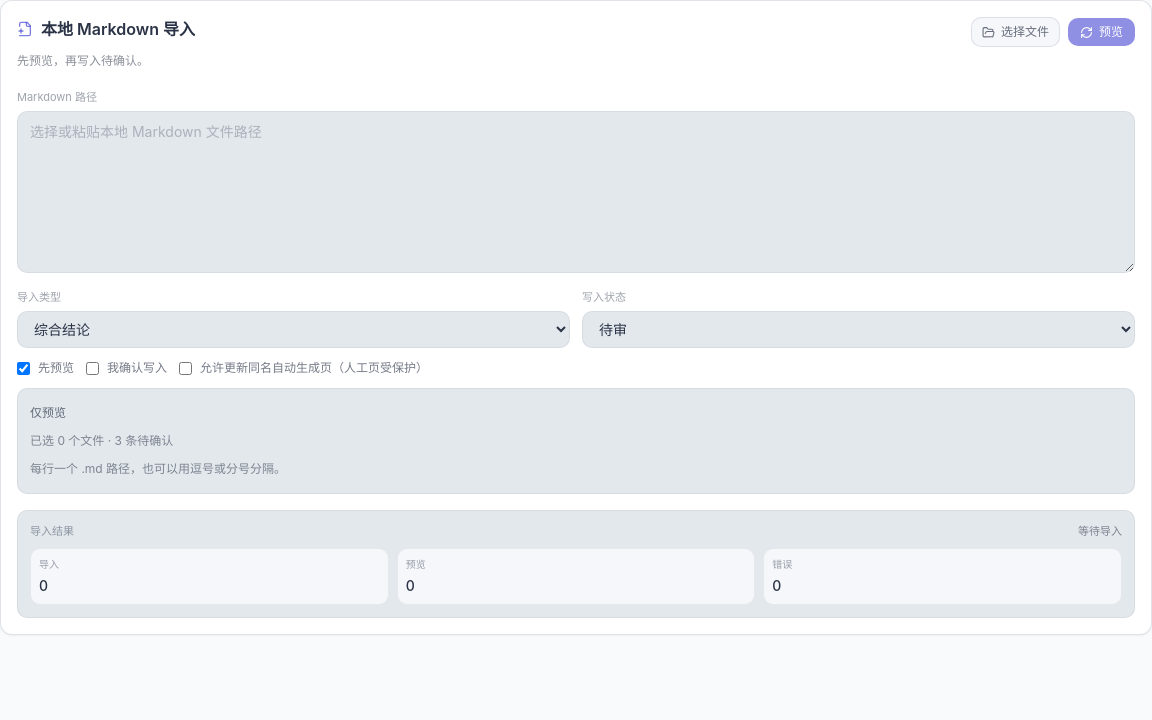
Test: WikiImportMarkdownPanel › keeps write mode blocked until the user confirms writing
Expected: the heading "本地 Markdown 导入" is shown, [41,17,195,41]
Type "C:\\temp\\draft.md" into the text box labelled "Markdown 路径".
click(576, 192); type("C:\\temp\\draft.md")  # box [17,111,1135,273]
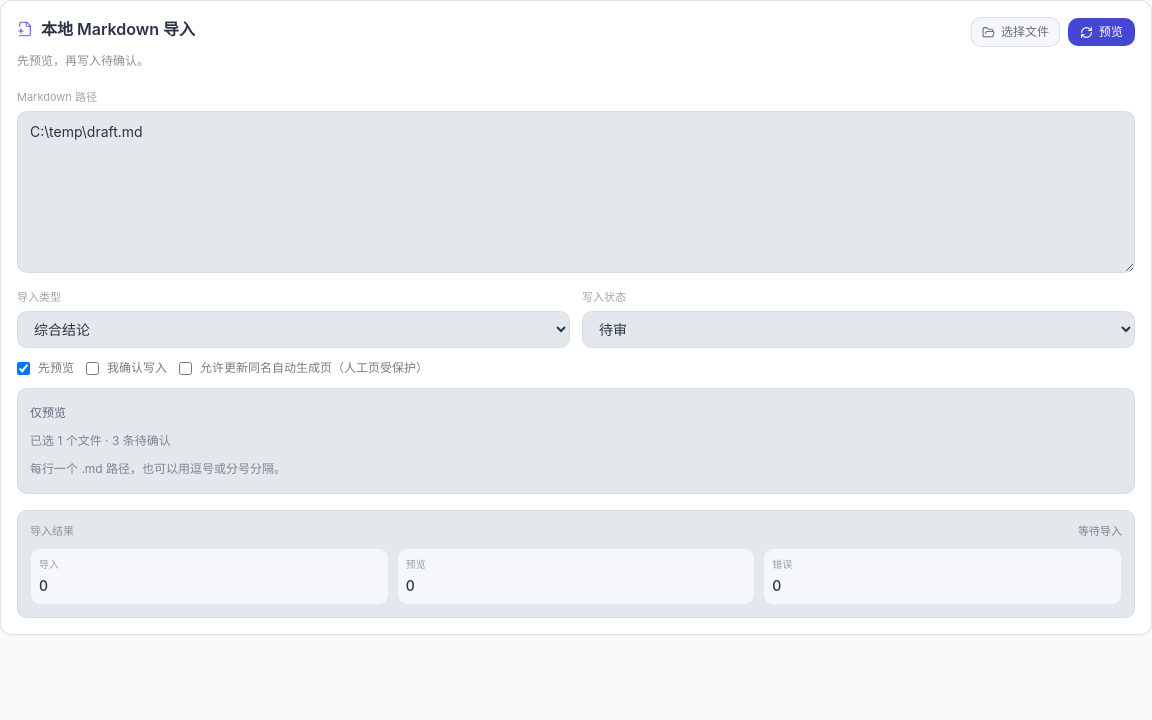
Click the checkbox labelled "先预览".
click(24, 368)  # box [17,362,30,374]
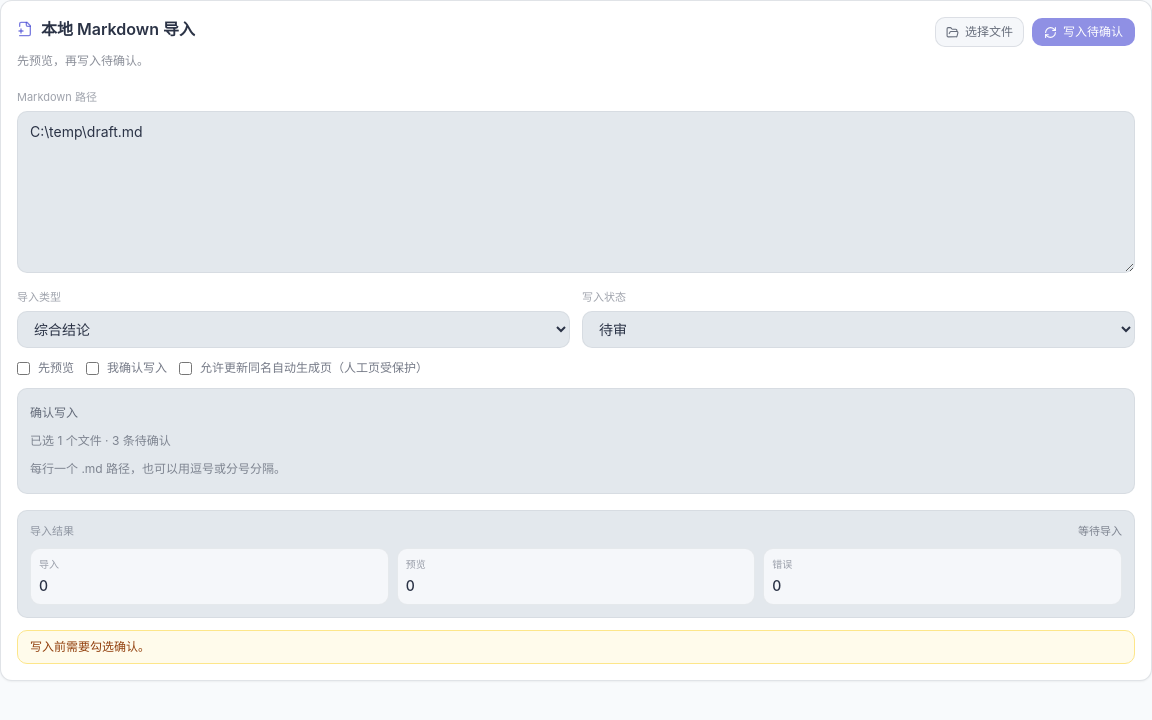
Now the button "写入待确认" is disabled, box [1032,18,1135,46]
Now the text "写入前需要勾选确认。" is shown, box [17,630,1135,664]
Click the checkbox labelled "我确认写入".
click(92, 368)  # box [86,362,99,374]
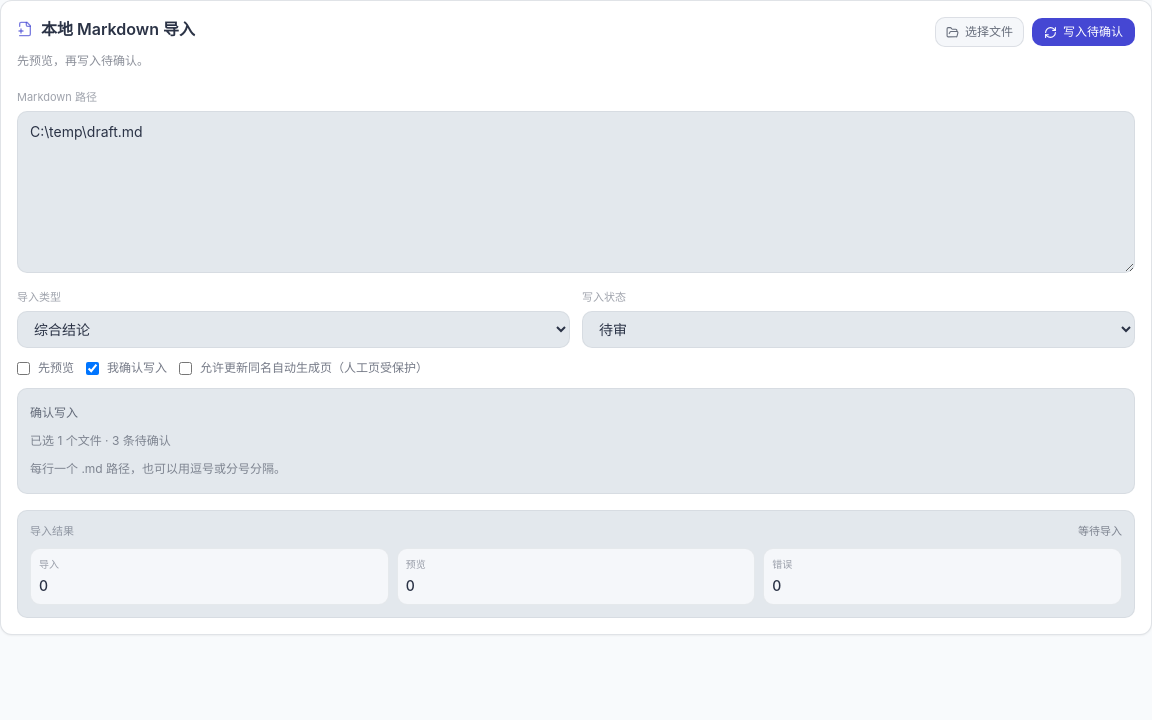
Now the button "写入待确认" is enabled
Click the button "写入待确认".
click(1084, 32)  # box [1032,18,1135,46]
(page scrolled)
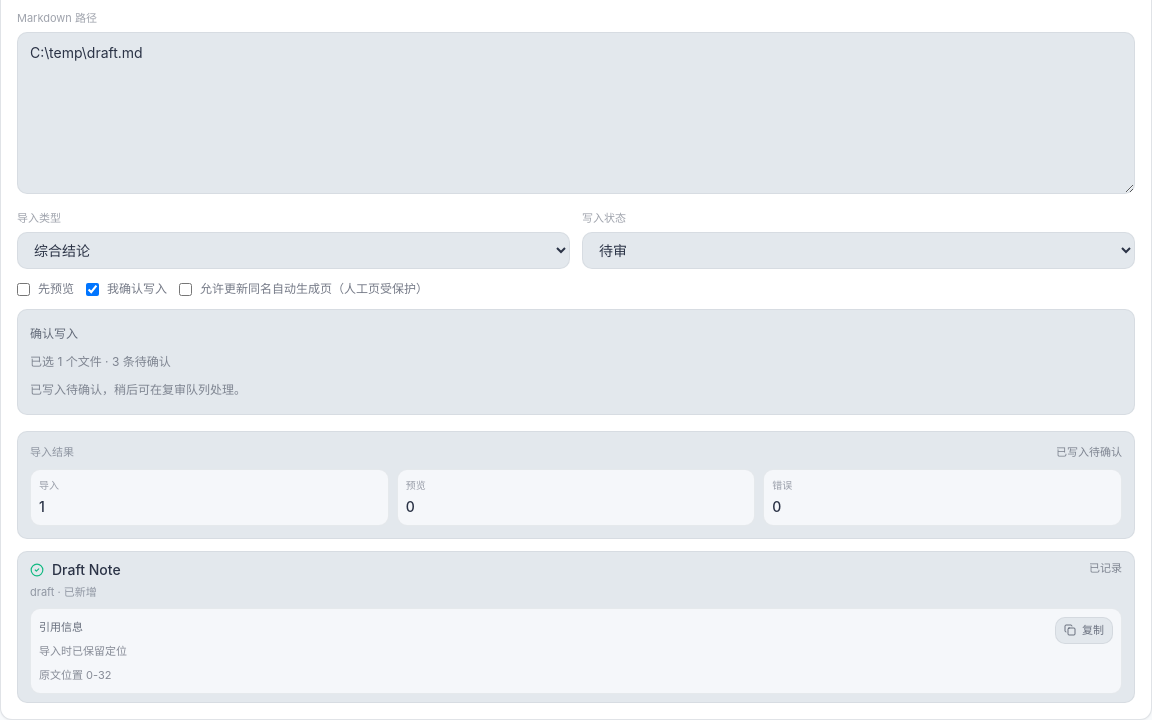
Now the text "已写入待确认" is shown, box [1056,444,1122,460]
Now the text "引用信息" is shown, box [39,620,83,634]
Now the text "导入时已保留定位" is shown, box [39,641,127,661]
Click the button with aria-label "复制引用信息".
click(1084, 630)  # box [1055,617,1113,644]
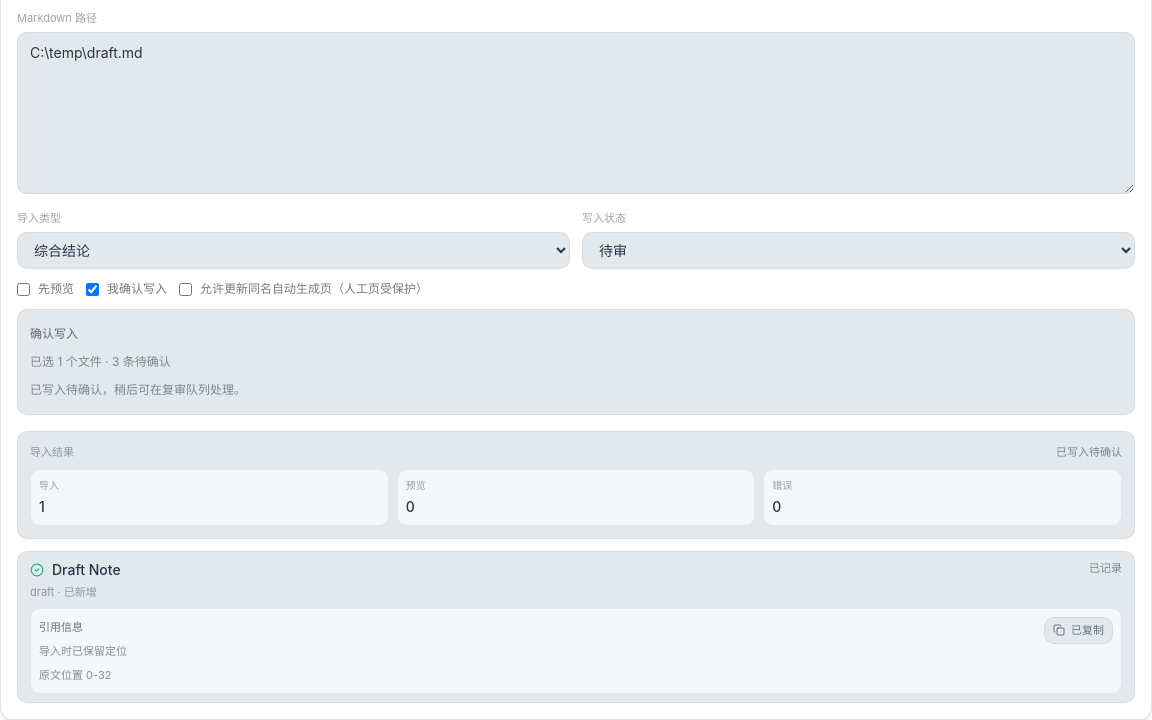
Now the button with aria-label "复制引用信息" reads "已复制", box [1044,617,1113,644]
